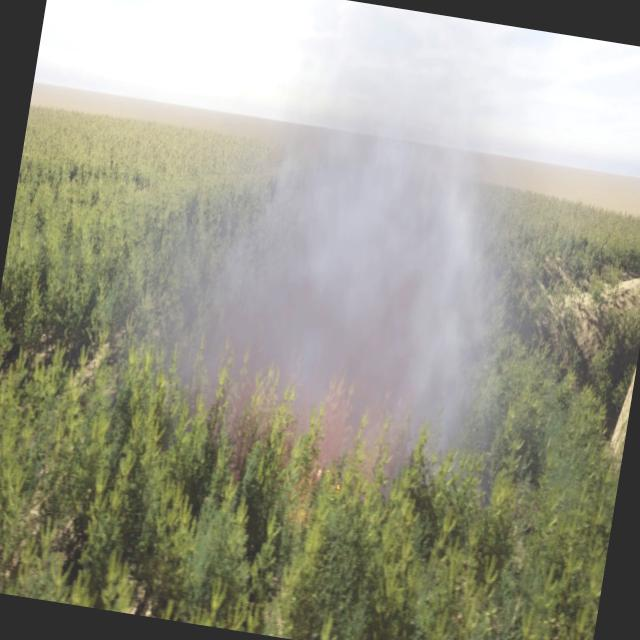smoke: (105, 0, 567, 492)
